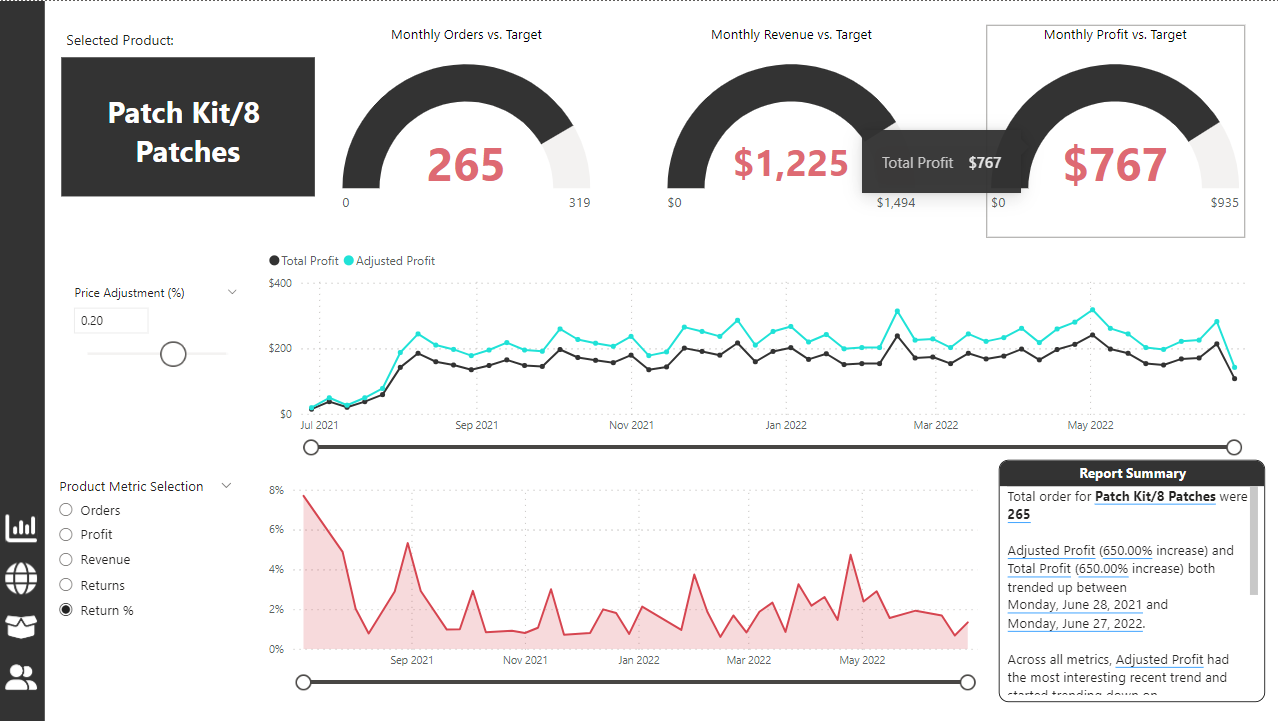

Layout of this report page (visuals, bound fields, positions):
{"tool":"powerbi","page":{"name":"Product Detail","canvas":[1280,720],"ordinal":2},"visuals":[{"type":"shape","box":[0,0,45,720],"z":0},{"type":"actionButton","box":[0.9,507.7,44.6,39.8],"z":1000,"group":"g1"},{"type":"gauge","title":"Monthly Orders vs. Target","fields":{"Y":["Measure Table.Total Orders"],"MaxValue":["Measure Table.Order Target"]},"box":[337.7,24.1,258.1,213.5],"z":1000},{"type":"gauge","title":"Monthly Revenue vs. Target","fields":{"Y":["Measure Table.Total Revenue"],"MaxValue":["Measure Table.Revenue Target"]},"box":[662.1,24.1,258.1,213.5],"z":2000},{"type":"actionButton","box":[0.9,606.6,44.6,39.8],"z":2000,"group":"g1"},{"type":"gauge","title":"Monthly Profit vs. Target","fields":{"Y":["Measure Table.Total Profit"],"MaxValue":["Measure Table.Profit Target"]},"box":[986.5,24.1,258.1,213.5],"z":3000},{"type":"actionButton","box":[0.9,656,44.6,39.8],"z":3000,"group":"g1"},{"type":"actionButton","box":[0.9,557.1,44.6,39.8],"z":4000,"group":"g1"},{"type":"lineChart","title":"Profit Trending","fields":{"Category":["Calendar Lookup.Date Hierarchy.Start of Year","Calendar Lookup.Date Hierarchy.Start of Month","Calendar Lookup.Date Hierarchy.Start of Week","Calendar Lookup.Date Hierarchy.Date"],"Y":["Measure Table.Total Profit","Measure Table.Adjusted Profit"]},"box":[263.9,240,1000,217.1],"z":4000},{"type":"areaChart","title":"Returns Trending","fields":{"Y":["Measure Table.Return Rate"],"Category":["Calendar Lookup.Date Hierarchy.Start of Year","Calendar Lookup.Date Hierarchy.Start of Month","Calendar Lookup.Date Hierarchy.Start of Week","Calendar Lookup.Date Hierarchy.Date"]},"box":[264.1,475.2,733.3,217.1],"z":5000},{"type":"card","fields":{"Values":["Min(Product Lookup.ProductName)"]},"box":[61.5,56.2,253.3,139.2],"z":6000},{"type":"textbox","box":[61.5,24.4,153.2,41],"z":7000},{"type":"group","id":"g1","title":"Navigation buttons","box":[0.9,507.7,44.6,188.1],"z":8000},{"type":"slicer","fields":{"Values":["Price Adjustment (%).Price Adjustment (%)"]},"box":[61.5,278.6,188.4,106.1],"z":9000},{"type":"slicer","fields":{"Values":["Product Metric Selection.Product Metric Selection"]},"box":[45.8,471.6,198,170.1],"z":10000},{"type":"textbox","title":"Report Summary","box":[998.8,458.3,266.5,242.4],"z":11000}]}

Visuals, with their boxes on the page's 1280x720 design canvas (x1, y1, x2, y2). These are canvas units, not pixel positions in the 1278x721 screenshot, which may show the page scaled, cropped or inside an application window:
shape: BBox(0, 0, 45, 720)
actionButton: BBox(1, 508, 46, 548)
"Monthly Orders vs. Target" gauge: BBox(338, 24, 596, 238)
"Monthly Revenue vs. Target" gauge: BBox(662, 24, 920, 238)
actionButton: BBox(1, 607, 46, 646)
"Monthly Profit vs. Target" gauge: BBox(986, 24, 1245, 238)
actionButton: BBox(1, 656, 46, 696)
actionButton: BBox(1, 557, 46, 597)
"Profit Trending" lineChart: BBox(264, 240, 1264, 457)
"Returns Trending" areaChart: BBox(264, 475, 997, 692)
card - Min(Product Lookup.ProductName): BBox(62, 56, 315, 195)
textbox: BBox(62, 24, 215, 65)
"Navigation buttons" group: BBox(1, 508, 46, 696)
slicer - Price Adjustment (%).Price Adjustment (%): BBox(62, 279, 250, 385)
slicer - Product Metric Selection.Product Metric Selection: BBox(46, 472, 244, 642)
"Report Summary" textbox: BBox(999, 458, 1265, 701)
